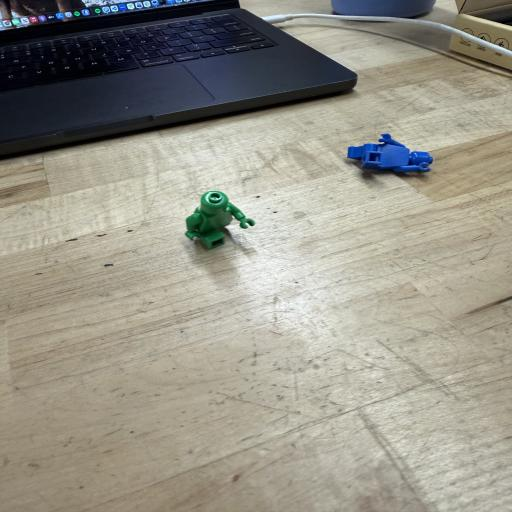blue-minifig: (347, 134, 433, 172)
green-minifig: (185, 191, 255, 249)
